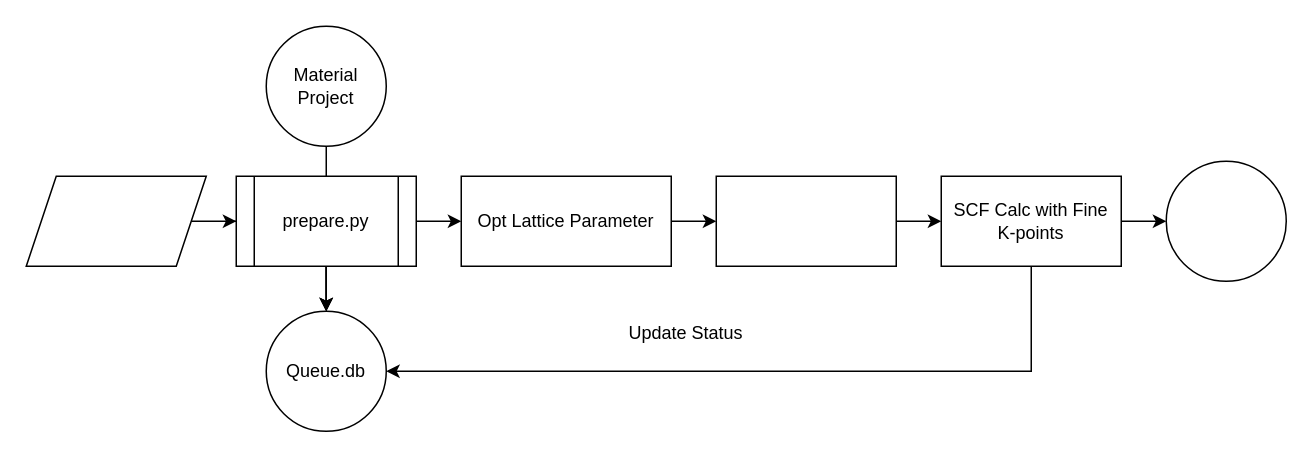
Image size: 1313x458. Some labels were removed from this diagram. Here are the shapes that lost their labels. From the top down, the centre of each, then its label:
the point at 115,220: deamon.py
the point at 805,220: Opt Atomic Configureation
the point at 1225,220: Gap.db
